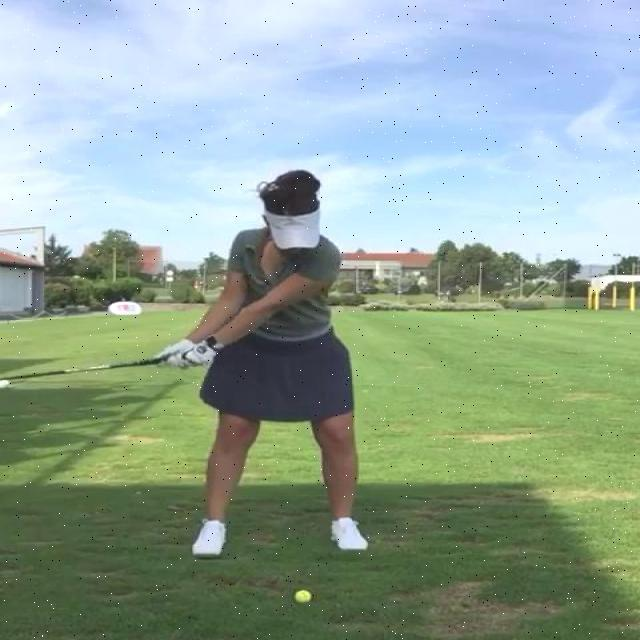golf ball: (296, 590, 316, 602)
golf club-handle: (0, 357, 167, 379)
